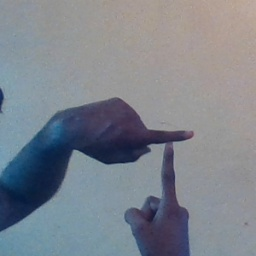T: (118, 111, 209, 224)
